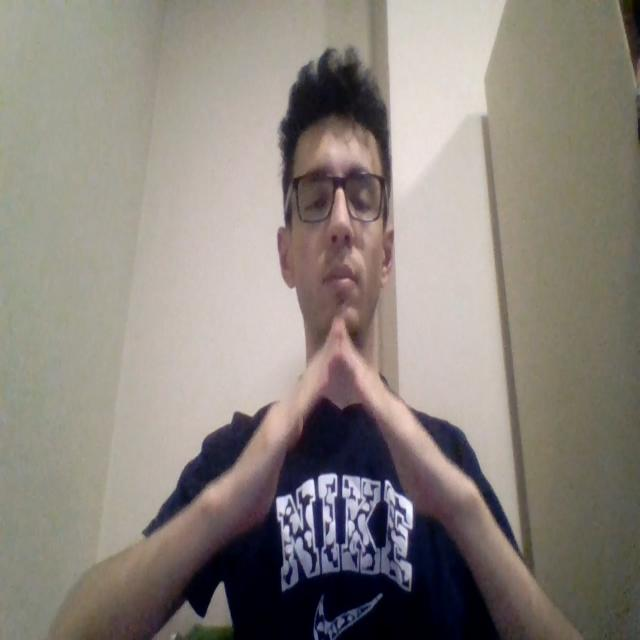house: (234, 319, 444, 522)
